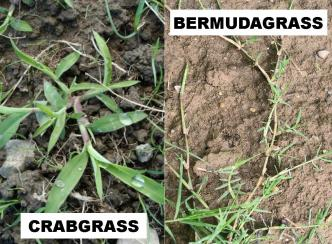crabgrass: (5, 21, 160, 210)
